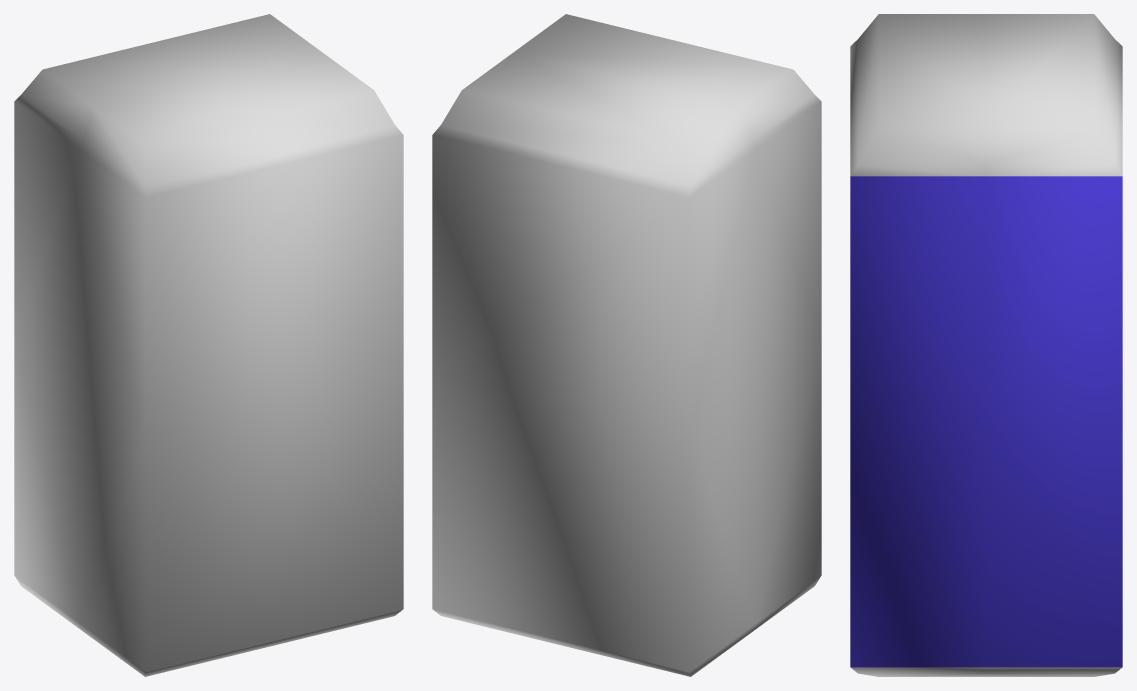
File: food-bag.fbx
The picture shows the model from 3 angles, left to right: view 1: azimuth 30°, elevation 25°; view 2: azimuth 150°, elevation 25°; view 3: azimuth 270°, elevation 25°; orthographic projection. The views are drawn at different scales.
Parts seen in each view (by area): view 1: Cube; view 2: Cube; view 3: Cube.
Boxes of the visible parts, x1=… form: Cube: x1=14, y1=14, x2=403, y2=676; Cube: x1=432, y1=14, x2=821, y2=676; Cube: x1=850, y1=14, x2=1122, y2=676.
Bounding box in the file's own units: 106 × 208 × 93.94.
